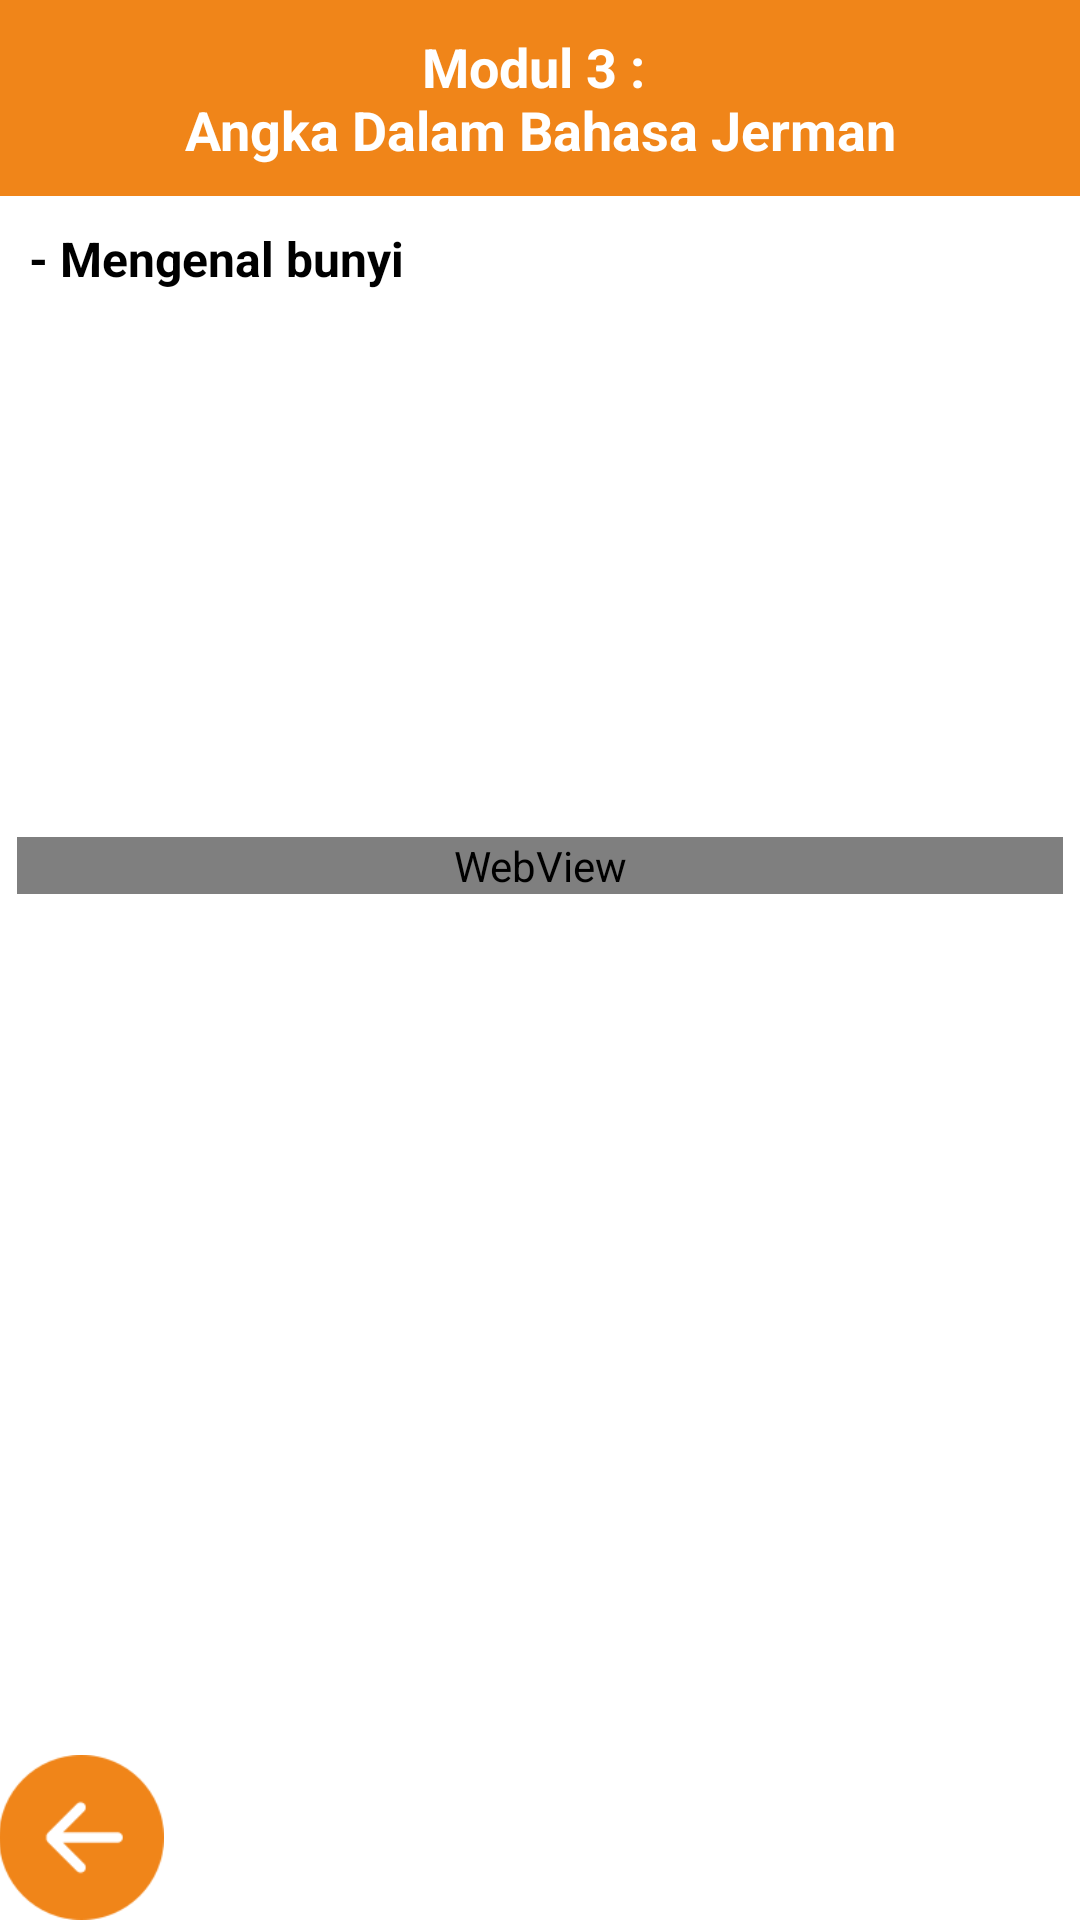

Icon bounding boxes for this 1080 × 1920 phone screenshot, format rect(x1, y1, x2, y2):
back: rect(0, 1755, 164, 1920)
